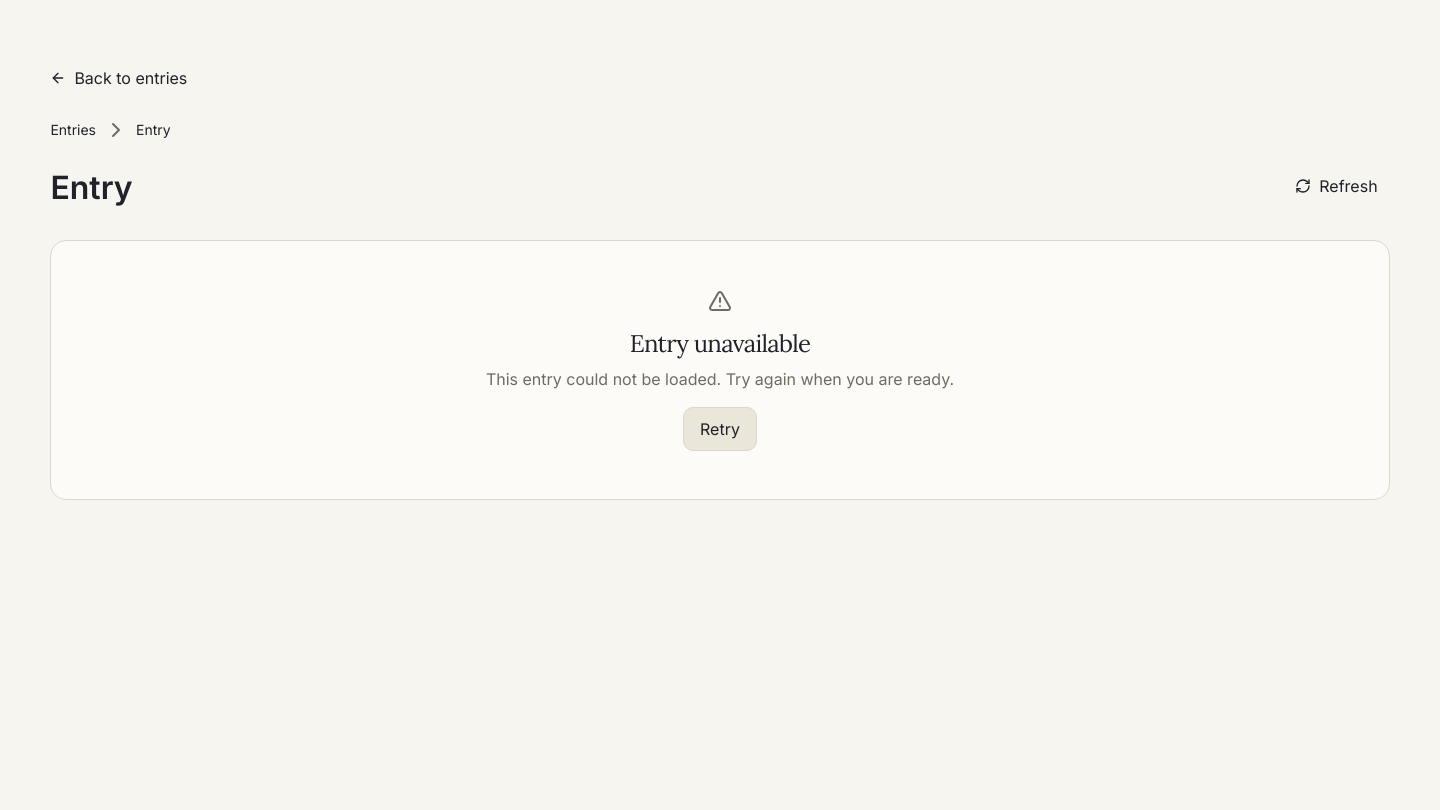
Test: EntryDetailScreen › shows a load error and retries through the repository boundary
Expected: the heading "Entry unavailable" is shown, top-left (630, 328), bottom-right (810, 359)
Click the button "Retry": [720, 429] box top-left (683, 407), bottom-right (757, 451)
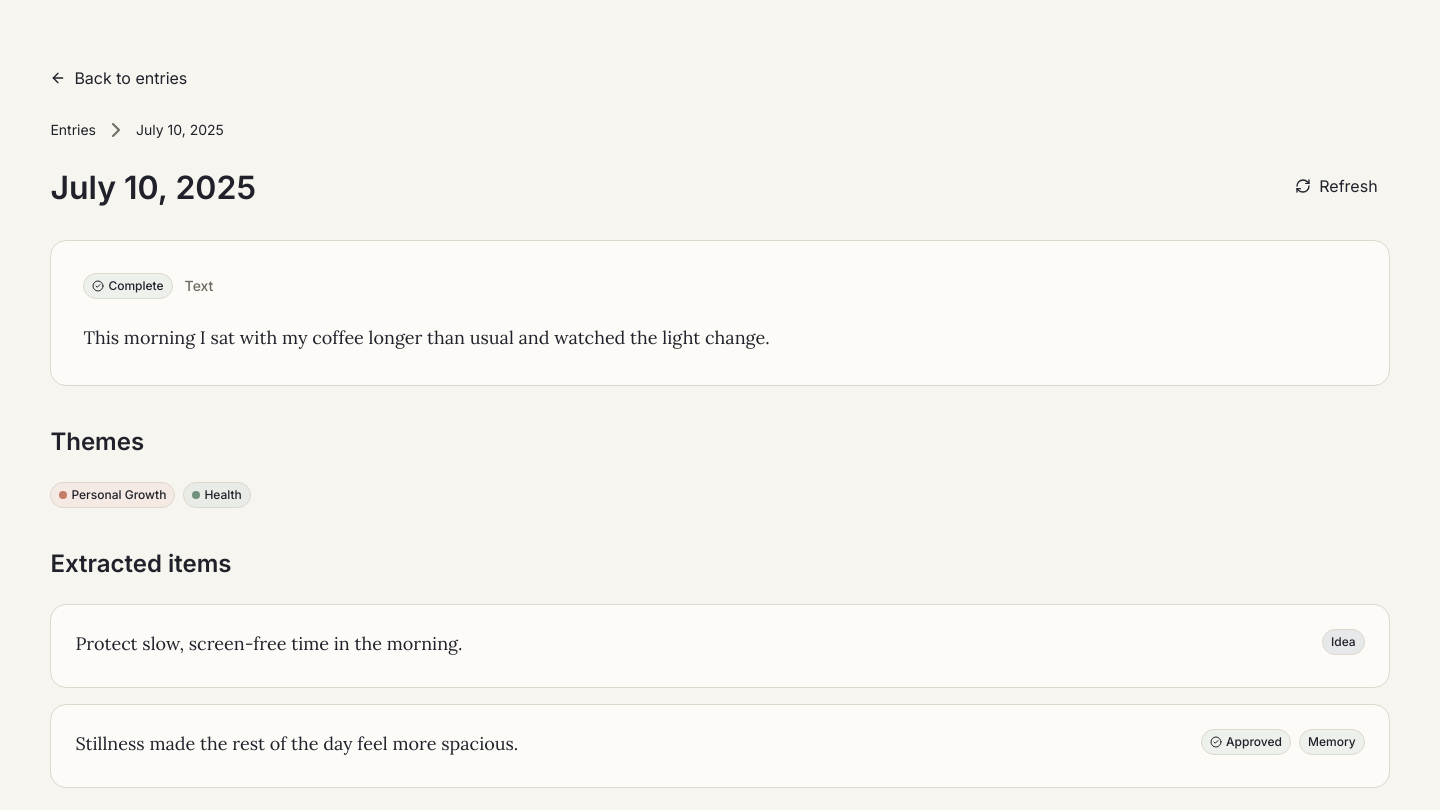
Now the heading "July 10, 2025" is shown, box top-left (50, 168), bottom-right (256, 208)
